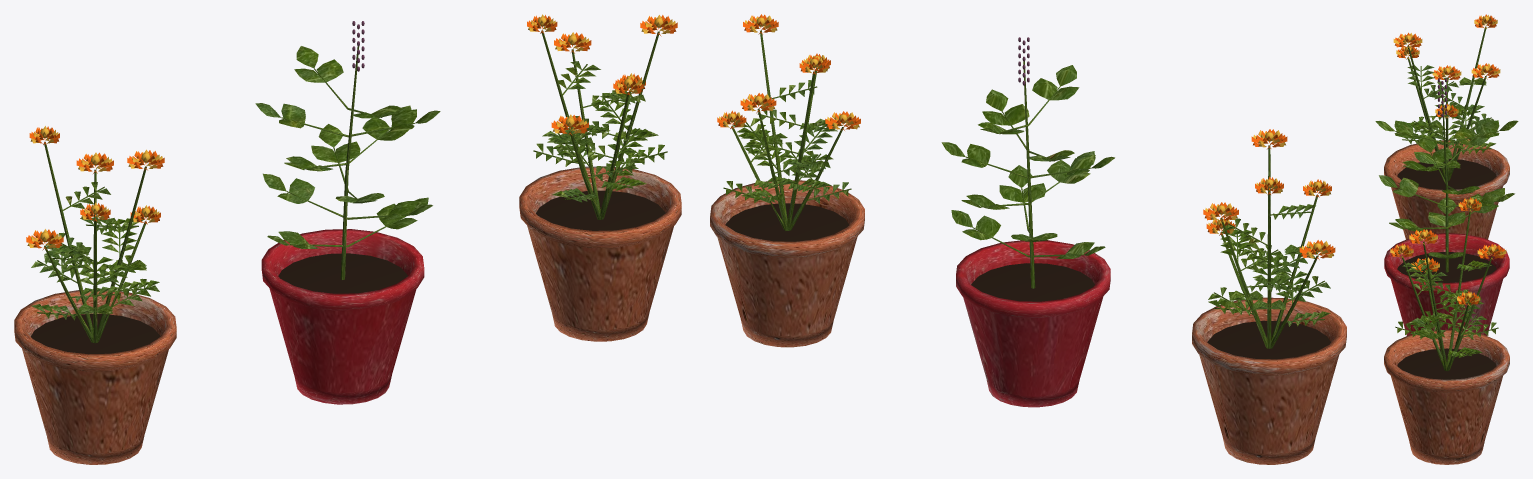
Rendered from prop_flower_pots.glb.
3 renders of one model, left to right at view 1: azimuth 30°, elevation 25°; view 2: azimuth 150°, elevation 25°; view 3: azimuth 270°, elevation 25°, orthographic. The views are drawn at different scales.
Parts seen in each view (by area): view 1: tulsi_plastic, marigold_terracotta, marigold_clay; view 2: tulsi_plastic, marigold_terracotta, marigold_clay; view 3: marigold_clay, tulsi_plastic, marigold_terracotta.
Part boxes in pixels (x1,y1,x2,y2): tulsi_plastic: (255, 21, 440, 404); marigold_terracotta: (14, 126, 176, 464); marigold_clay: (519, 14, 681, 341); tulsi_plastic: (941, 37, 1114, 407); marigold_terracotta: (1192, 129, 1346, 464); marigold_clay: (710, 14, 864, 347); marigold_clay: (1384, 197, 1509, 464); tulsi_plastic: (1375, 78, 1518, 335); marigold_terracotta: (1384, 14, 1509, 239).
Bounding box in the file's own units: 1.28 × 0.685 × 0.32.
7 materials, 3 textured.
